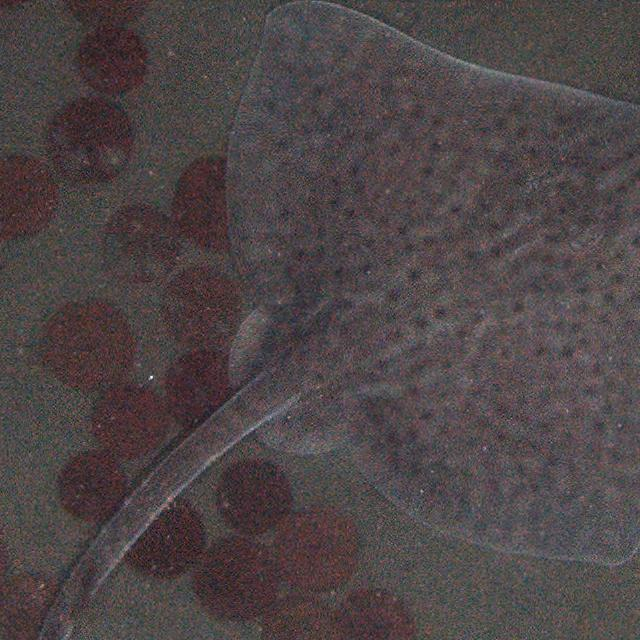skate: (54, 0, 637, 609)
